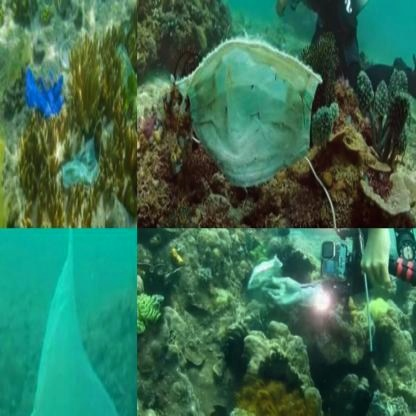Mask: (173, 35, 325, 194), (58, 116, 103, 197), (247, 251, 282, 294)
glove: (0, 228, 137, 415), (26, 68, 65, 121)
